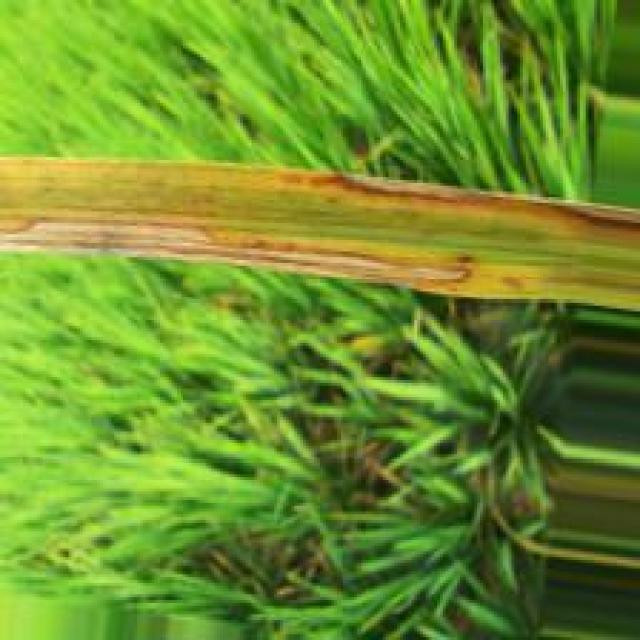Rice Tungro: (0, 218, 475, 293), (305, 172, 640, 237)
